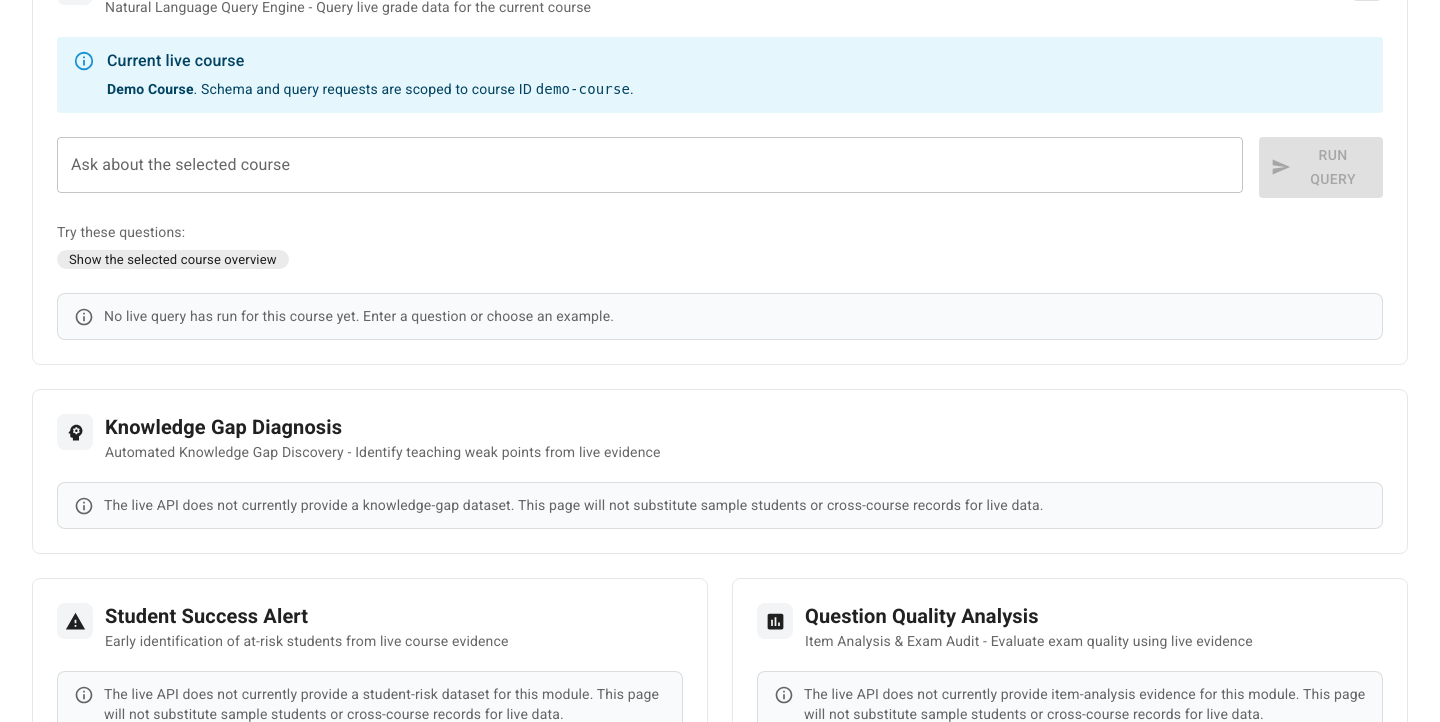
Scenario: AI Analytics live request states › keeps the restored module layout while showing an honest live empty result
Type "Show overview" into the field labelled "Ask about the selected course" at (650, 165), box [57,137,1243,193]
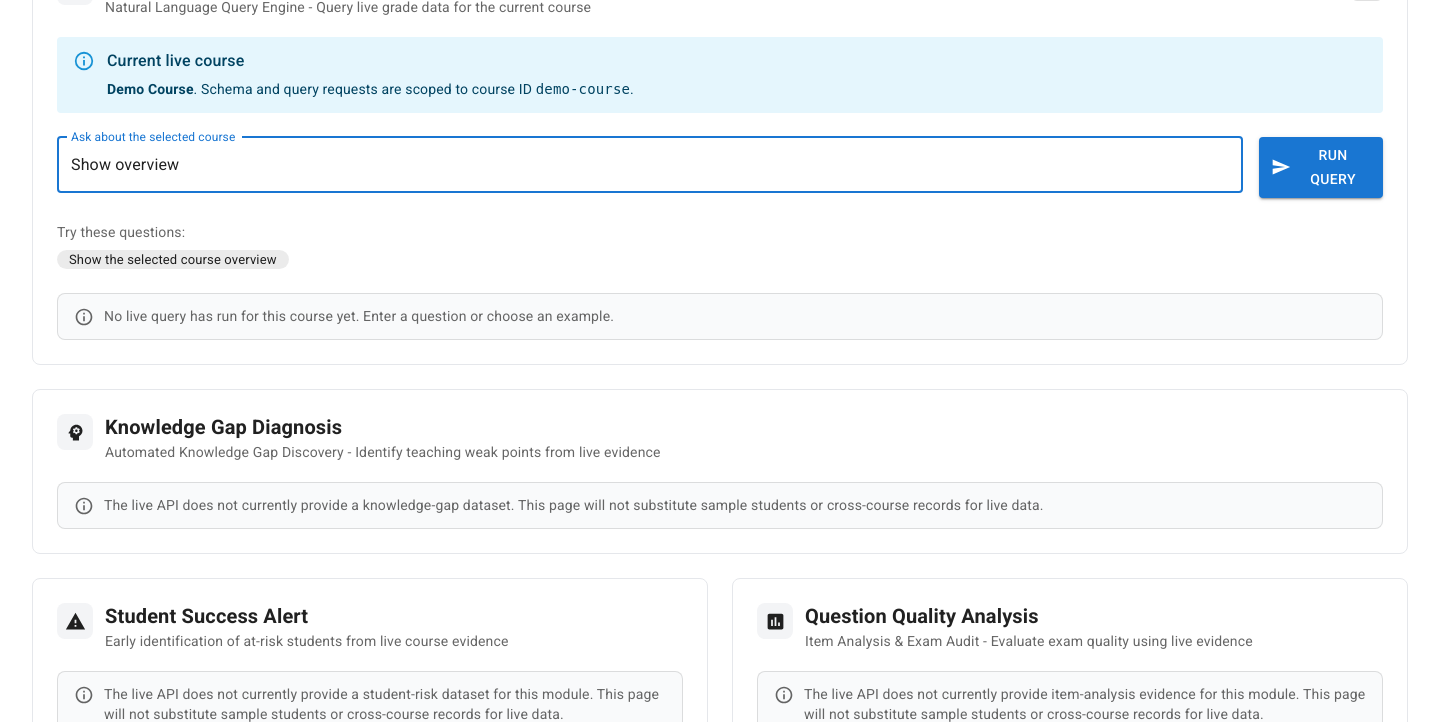
Click the button "Run query" at (1321, 167), box [1259,137,1383,198]
(page scrolled)
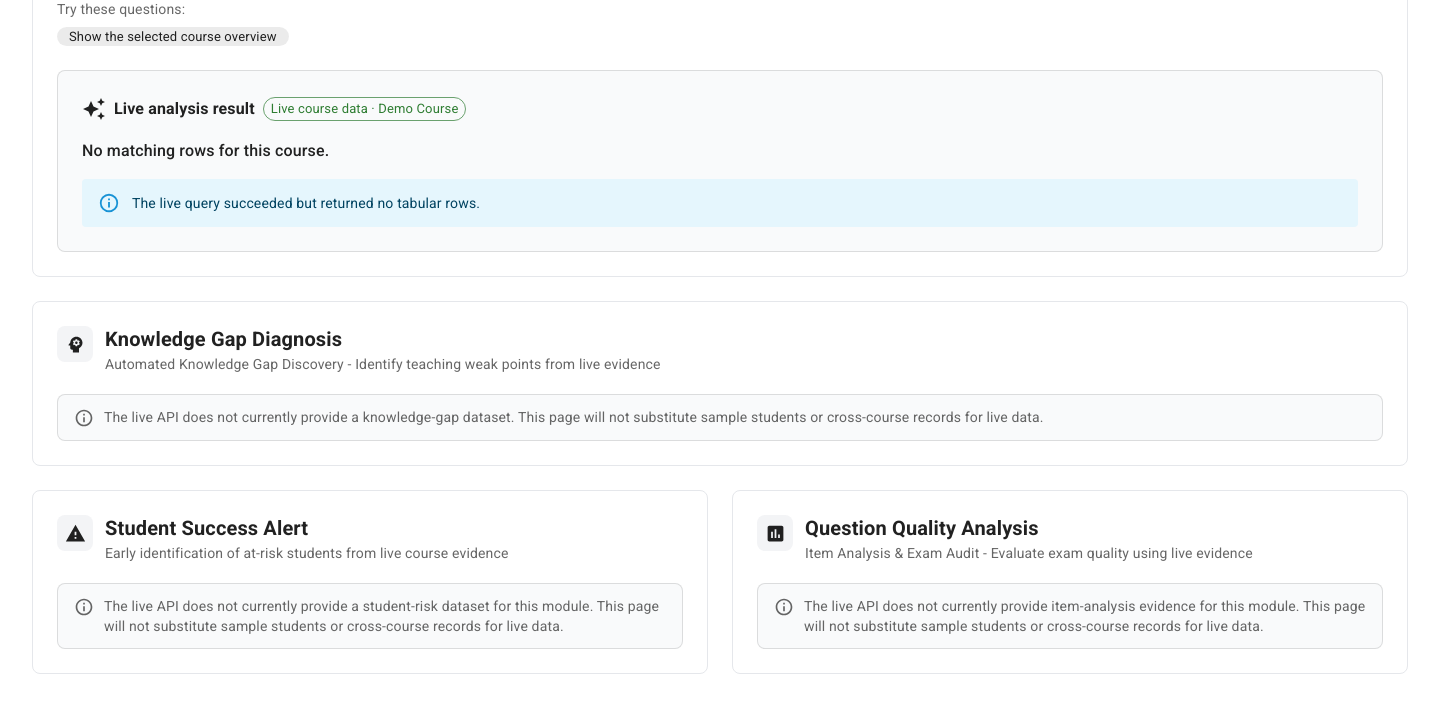
Expected: the heading "Knowledge Gap Diagnosis" is shown, [105,327,342,351]
Result: the text "No matching rows for this course." is shown at [82,141,329,160]
Result: the text "The live query succeeded but returned no tabular rows." is shown at [132,195,480,211]
